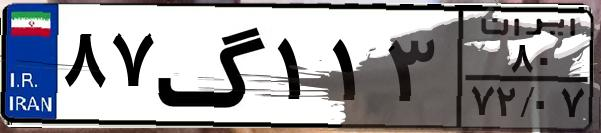0: (537, 27, 568, 80), (535, 70, 560, 125)
1: (270, 28, 330, 110), (330, 28, 385, 110)
2: (495, 70, 520, 125)
3: (385, 28, 445, 110)
7: (110, 28, 156, 98), (560, 70, 590, 125), (470, 70, 495, 125)
8: (57, 26, 110, 100), (508, 27, 537, 80)
گ: (156, 12, 270, 120)
